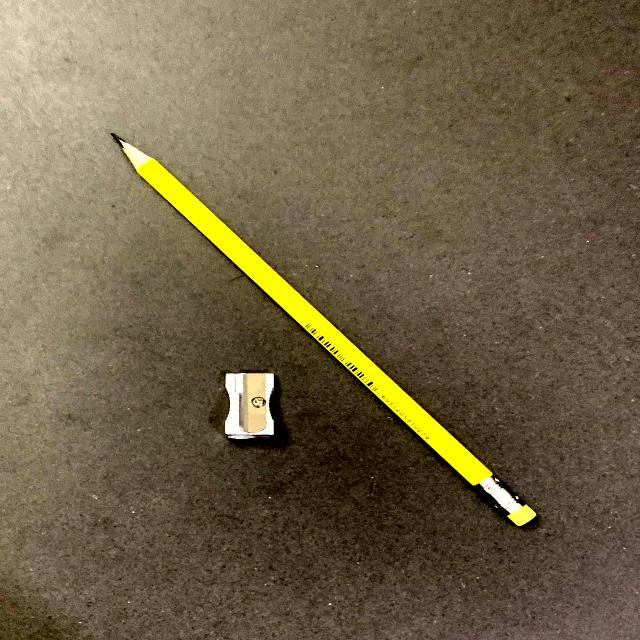Pencil: (63, 112, 583, 555)
Sharpner: (203, 362, 302, 448)
